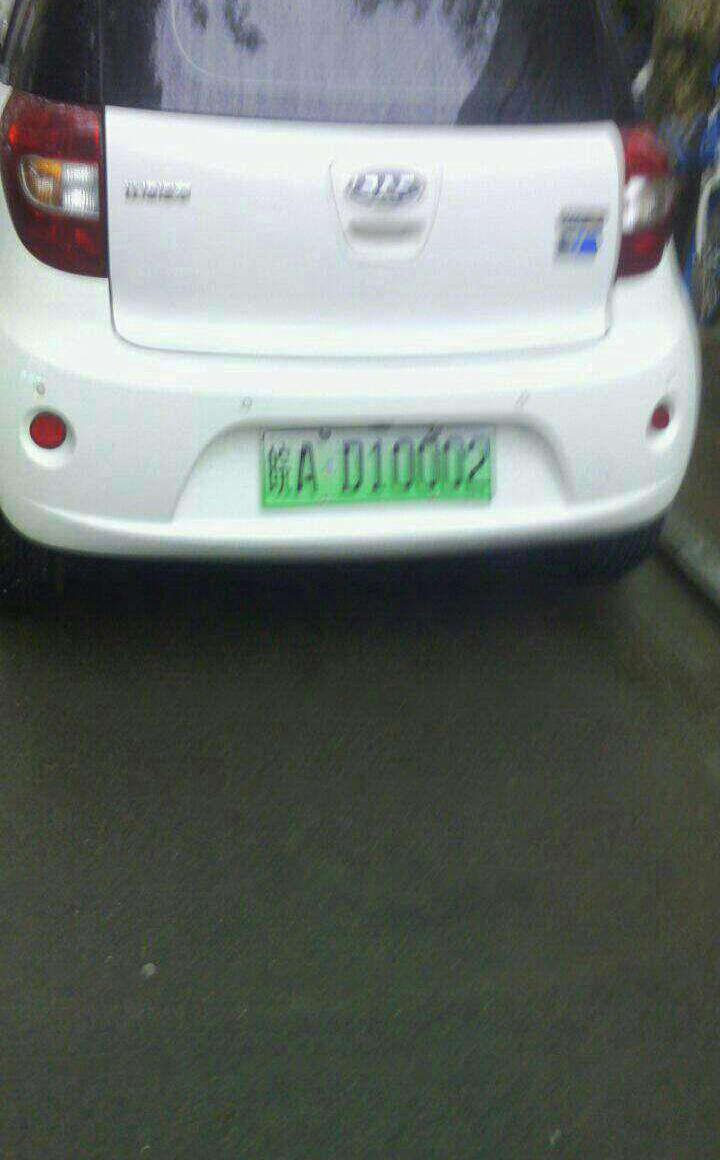car: (261, 426, 506, 511)
